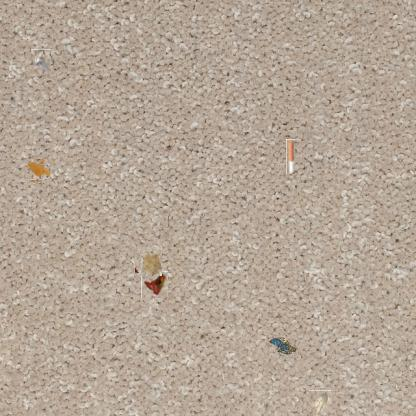dirty: (141, 271, 168, 298), (266, 334, 298, 356), (310, 390, 334, 415), (30, 51, 53, 73), (286, 139, 295, 174)
liquid: (134, 250, 162, 276), (28, 160, 49, 182)
